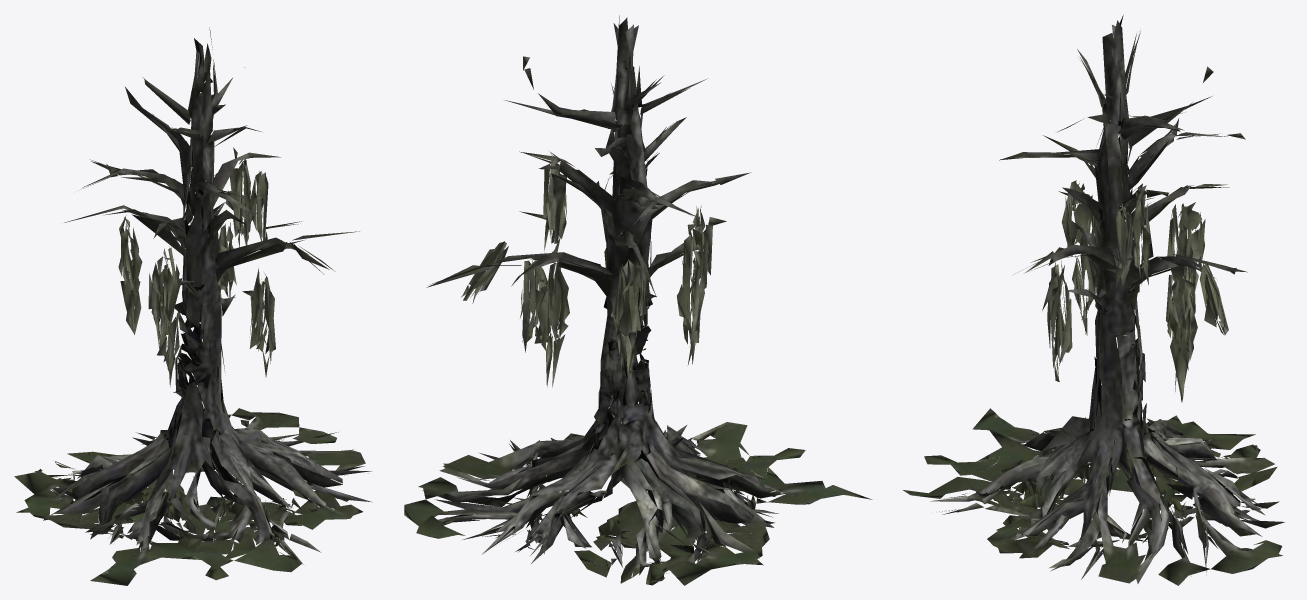
Rendered from cipreste_raizes_morta.glb.
3 renders of one model, left to right at view 1: azimuth 30°, elevation 25°; view 2: azimuth 150°, elevation 25°; view 3: azimuth 270°, elevation 25°, orthographic. The views are drawn at different scales.
Parts seen in each view (by area): view 1: geometry_0; view 2: geometry_0; view 3: geometry_0.
Boxes of the visible parts, x1=… form: geometry_0: x1=14, y1=27, x2=372, y2=585; geometry_0: x1=404, y1=15, x2=872, y2=585; geometry_0: x1=903, y1=15, x2=1284, y2=585.
Size of the model in its own units: 0.7565 by 0.989 by 0.7114.
Materials: 1 (1 with a texture image).
